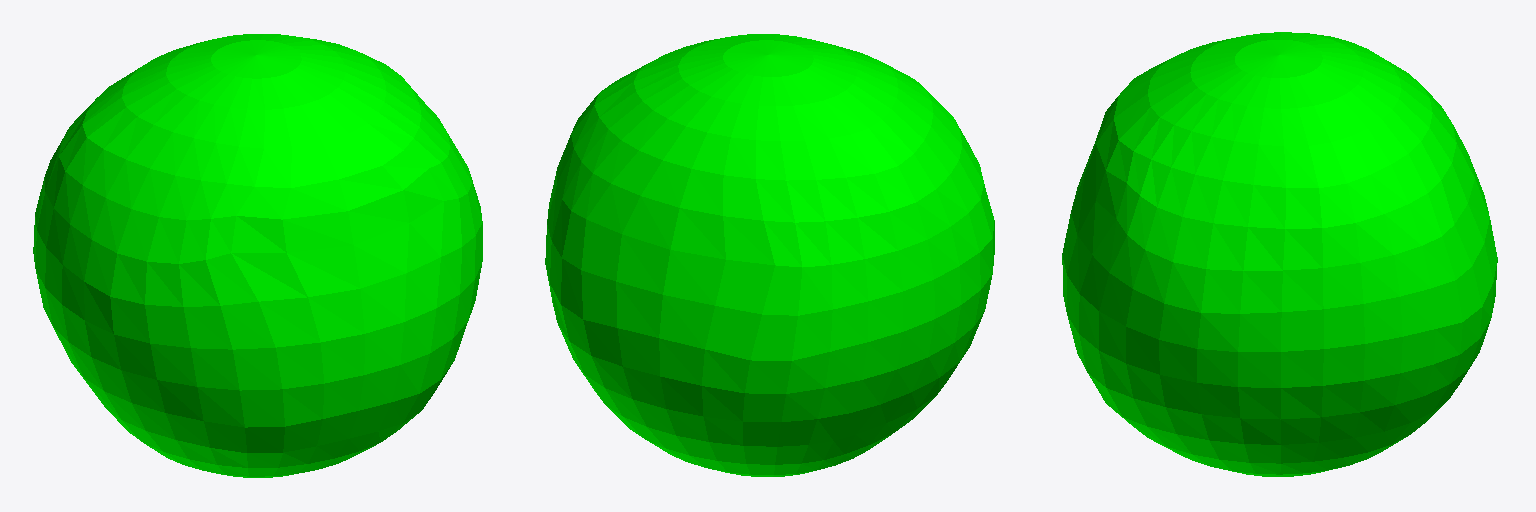
The model's file is outlineball.obj.
The picture shows the model from 3 angles: view 1: azimuth 30°, elevation 25°; view 2: azimuth 150°, elevation 25°; view 3: azimuth 270°, elevation 25°; orthographic projection.
Visible parts, largest first — view 1: Sphere; view 2: Sphere; view 3: Sphere.
Boxes of the visible parts, box(x1,y1,x2,y2) form: Sphere: box(33, 34, 482, 477); Sphere: box(545, 34, 994, 476); Sphere: box(1062, 32, 1497, 476).
Size of the model in its own units: 1.51 by 1.5 by 1.47.